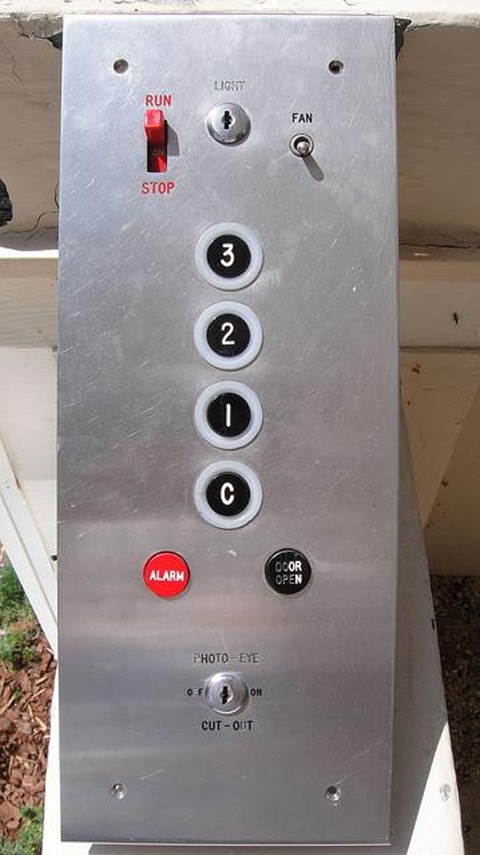1: (192, 379, 264, 451)
2: (192, 302, 264, 371)
3: (192, 221, 264, 290)
C: (193, 459, 261, 528)
keyhole: (202, 670, 252, 723), (204, 100, 252, 146)
switch: (134, 105, 175, 182), (284, 127, 319, 165)
text: (141, 548, 193, 600), (263, 548, 313, 597)
